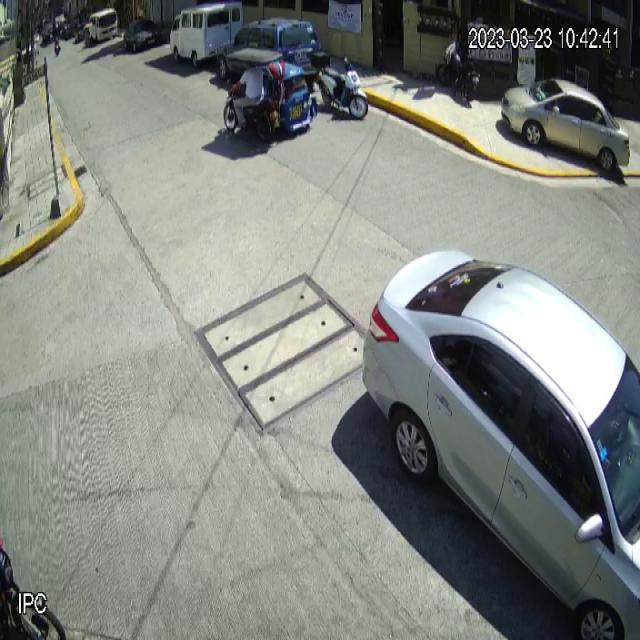Car: (361, 246, 639, 640), (500, 78, 630, 174)
Motorcycle: (310, 50, 369, 117)
Tricycle: (222, 48, 314, 141)
Van: (169, 2, 244, 68)
